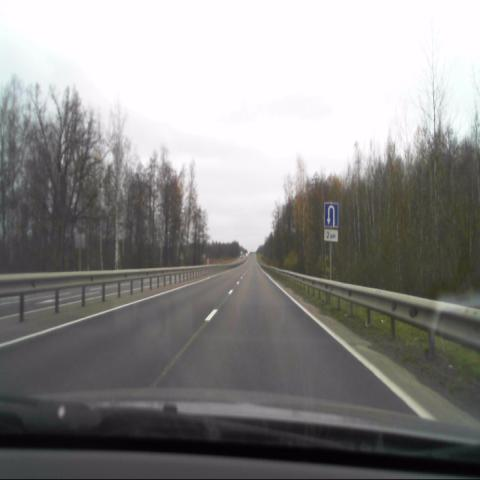6_3_1: (324, 201, 340, 228)
